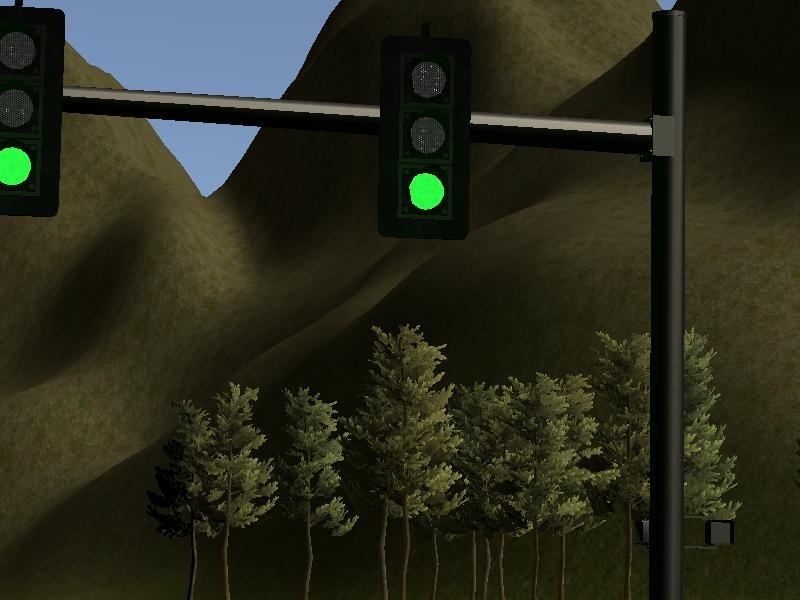GREEN: (386, 38, 469, 234), (1, 5, 60, 216)
